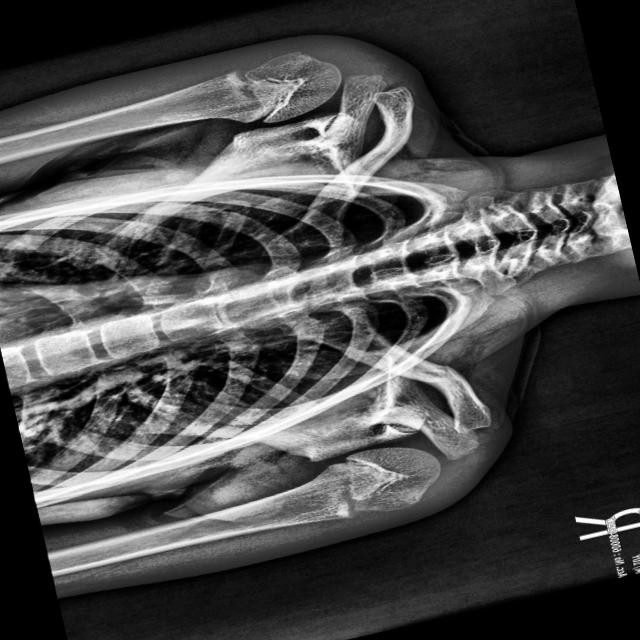Fracture: (396, 354, 485, 402)
